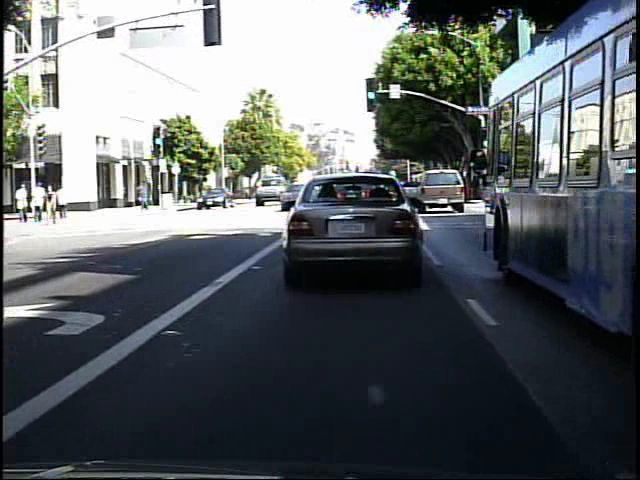person: (15, 180, 34, 226), (32, 181, 48, 224), (134, 178, 152, 215), (42, 184, 57, 226), (57, 181, 72, 221), (46, 184, 60, 221)
